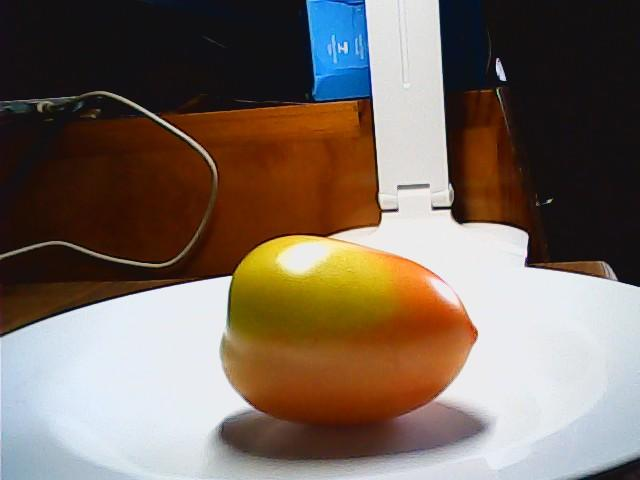verde: (212, 229, 476, 426)
